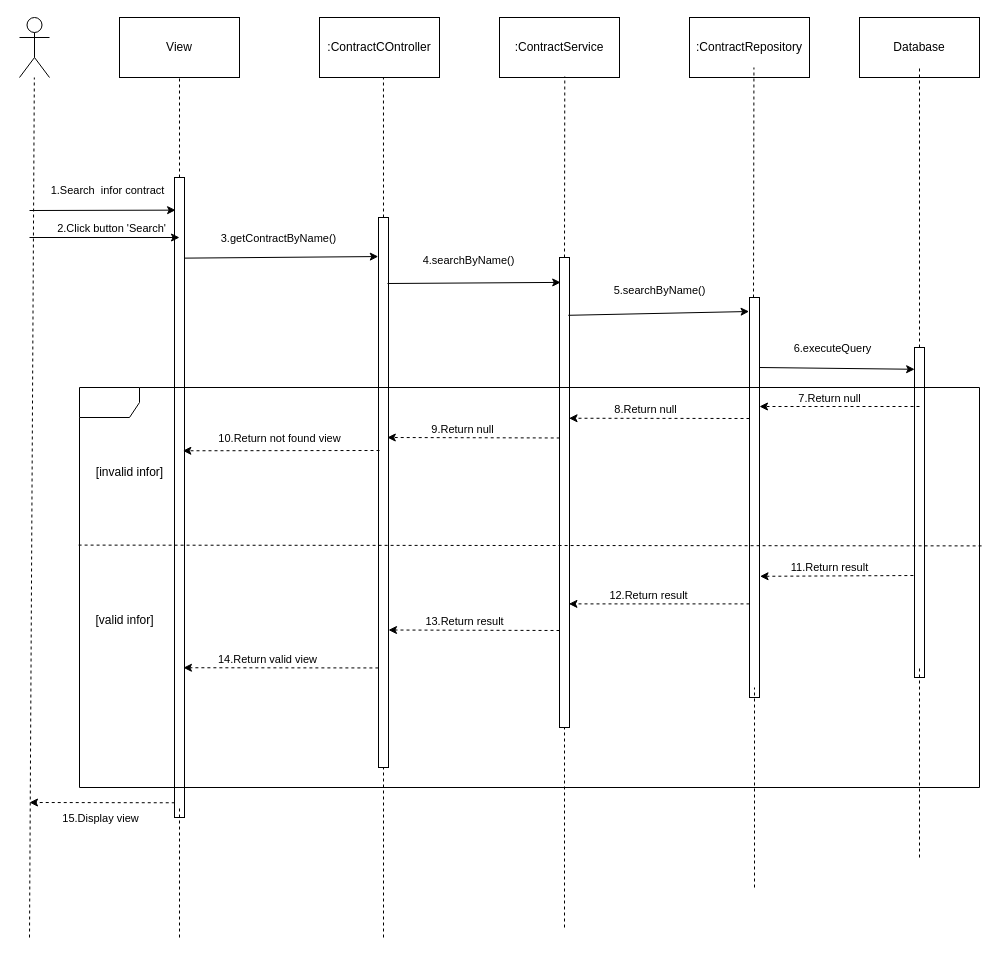
The diagram is 1001 pixels wide and 956 high, and some of its shapes have lost their labels. Here are the shapes that lost their labels. From the top down, the box of each, then its label:
(18, 16, 50, 78): Admin
(78, 386, 980, 788): frame
